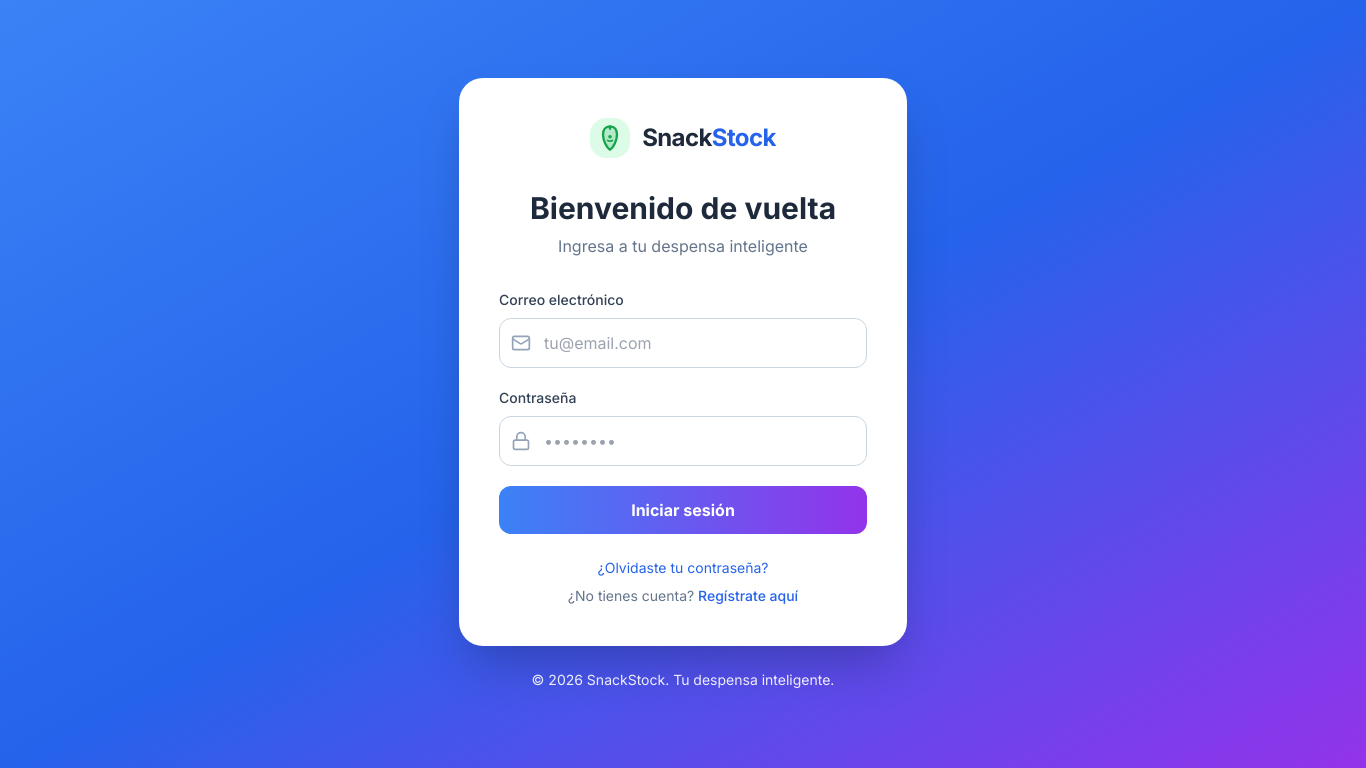
Test case: Login Component (functional test) › debería cambiar entre modo login y registro
This screenshot has width=1366, height=768.
Expected: the button "Iniciar sesión" is shown, [499, 486, 867, 534]
Cambiar a modo registro
Click the button "Regístrate aquí" at (748, 596), box [698, 586, 798, 606]
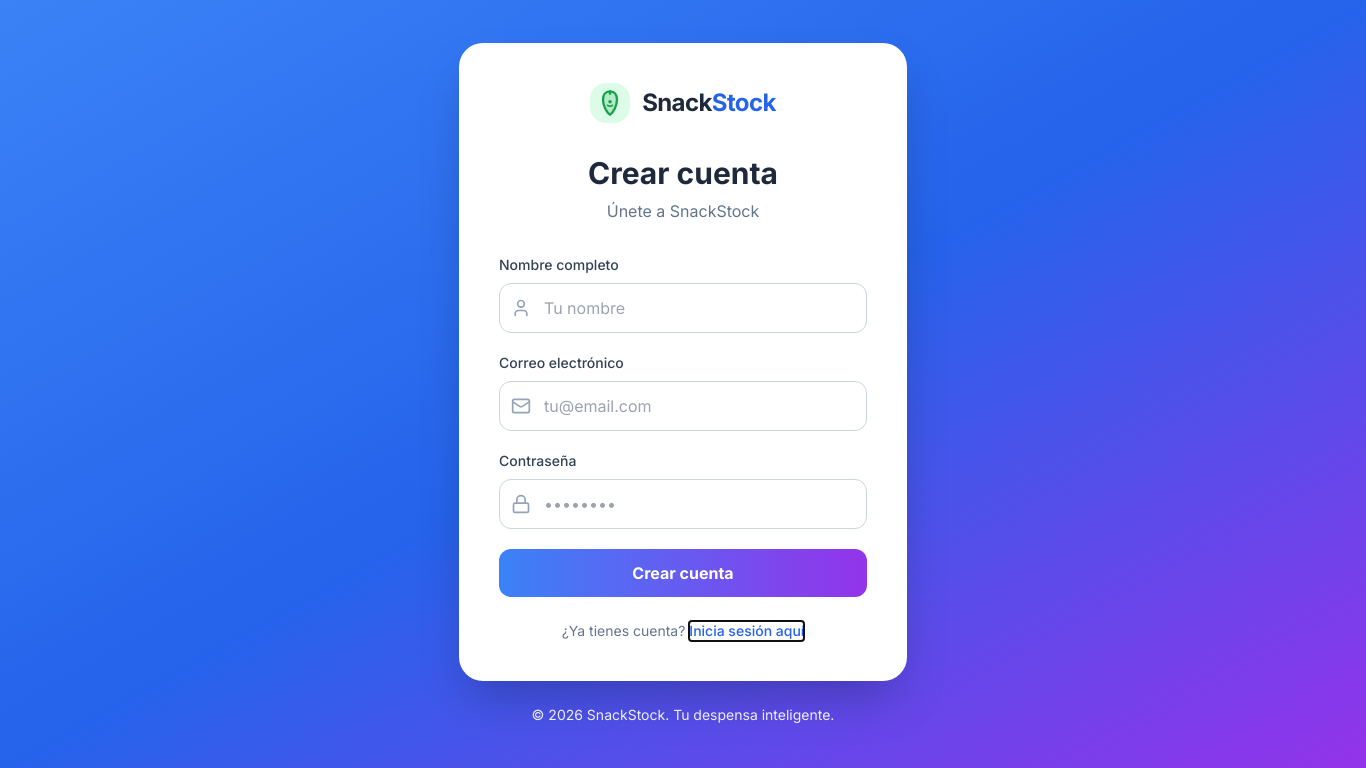
Now the field with placeholder "Tu nombre" is shown, box [499, 283, 867, 333]
